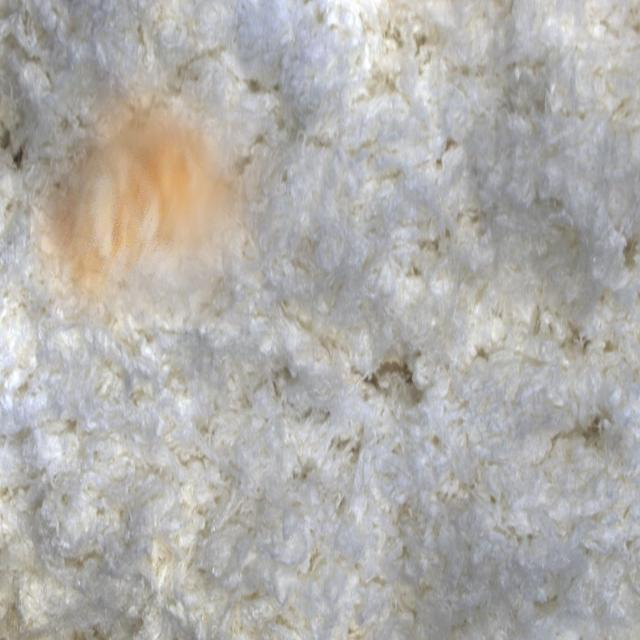dust: (26, 45, 282, 329)
